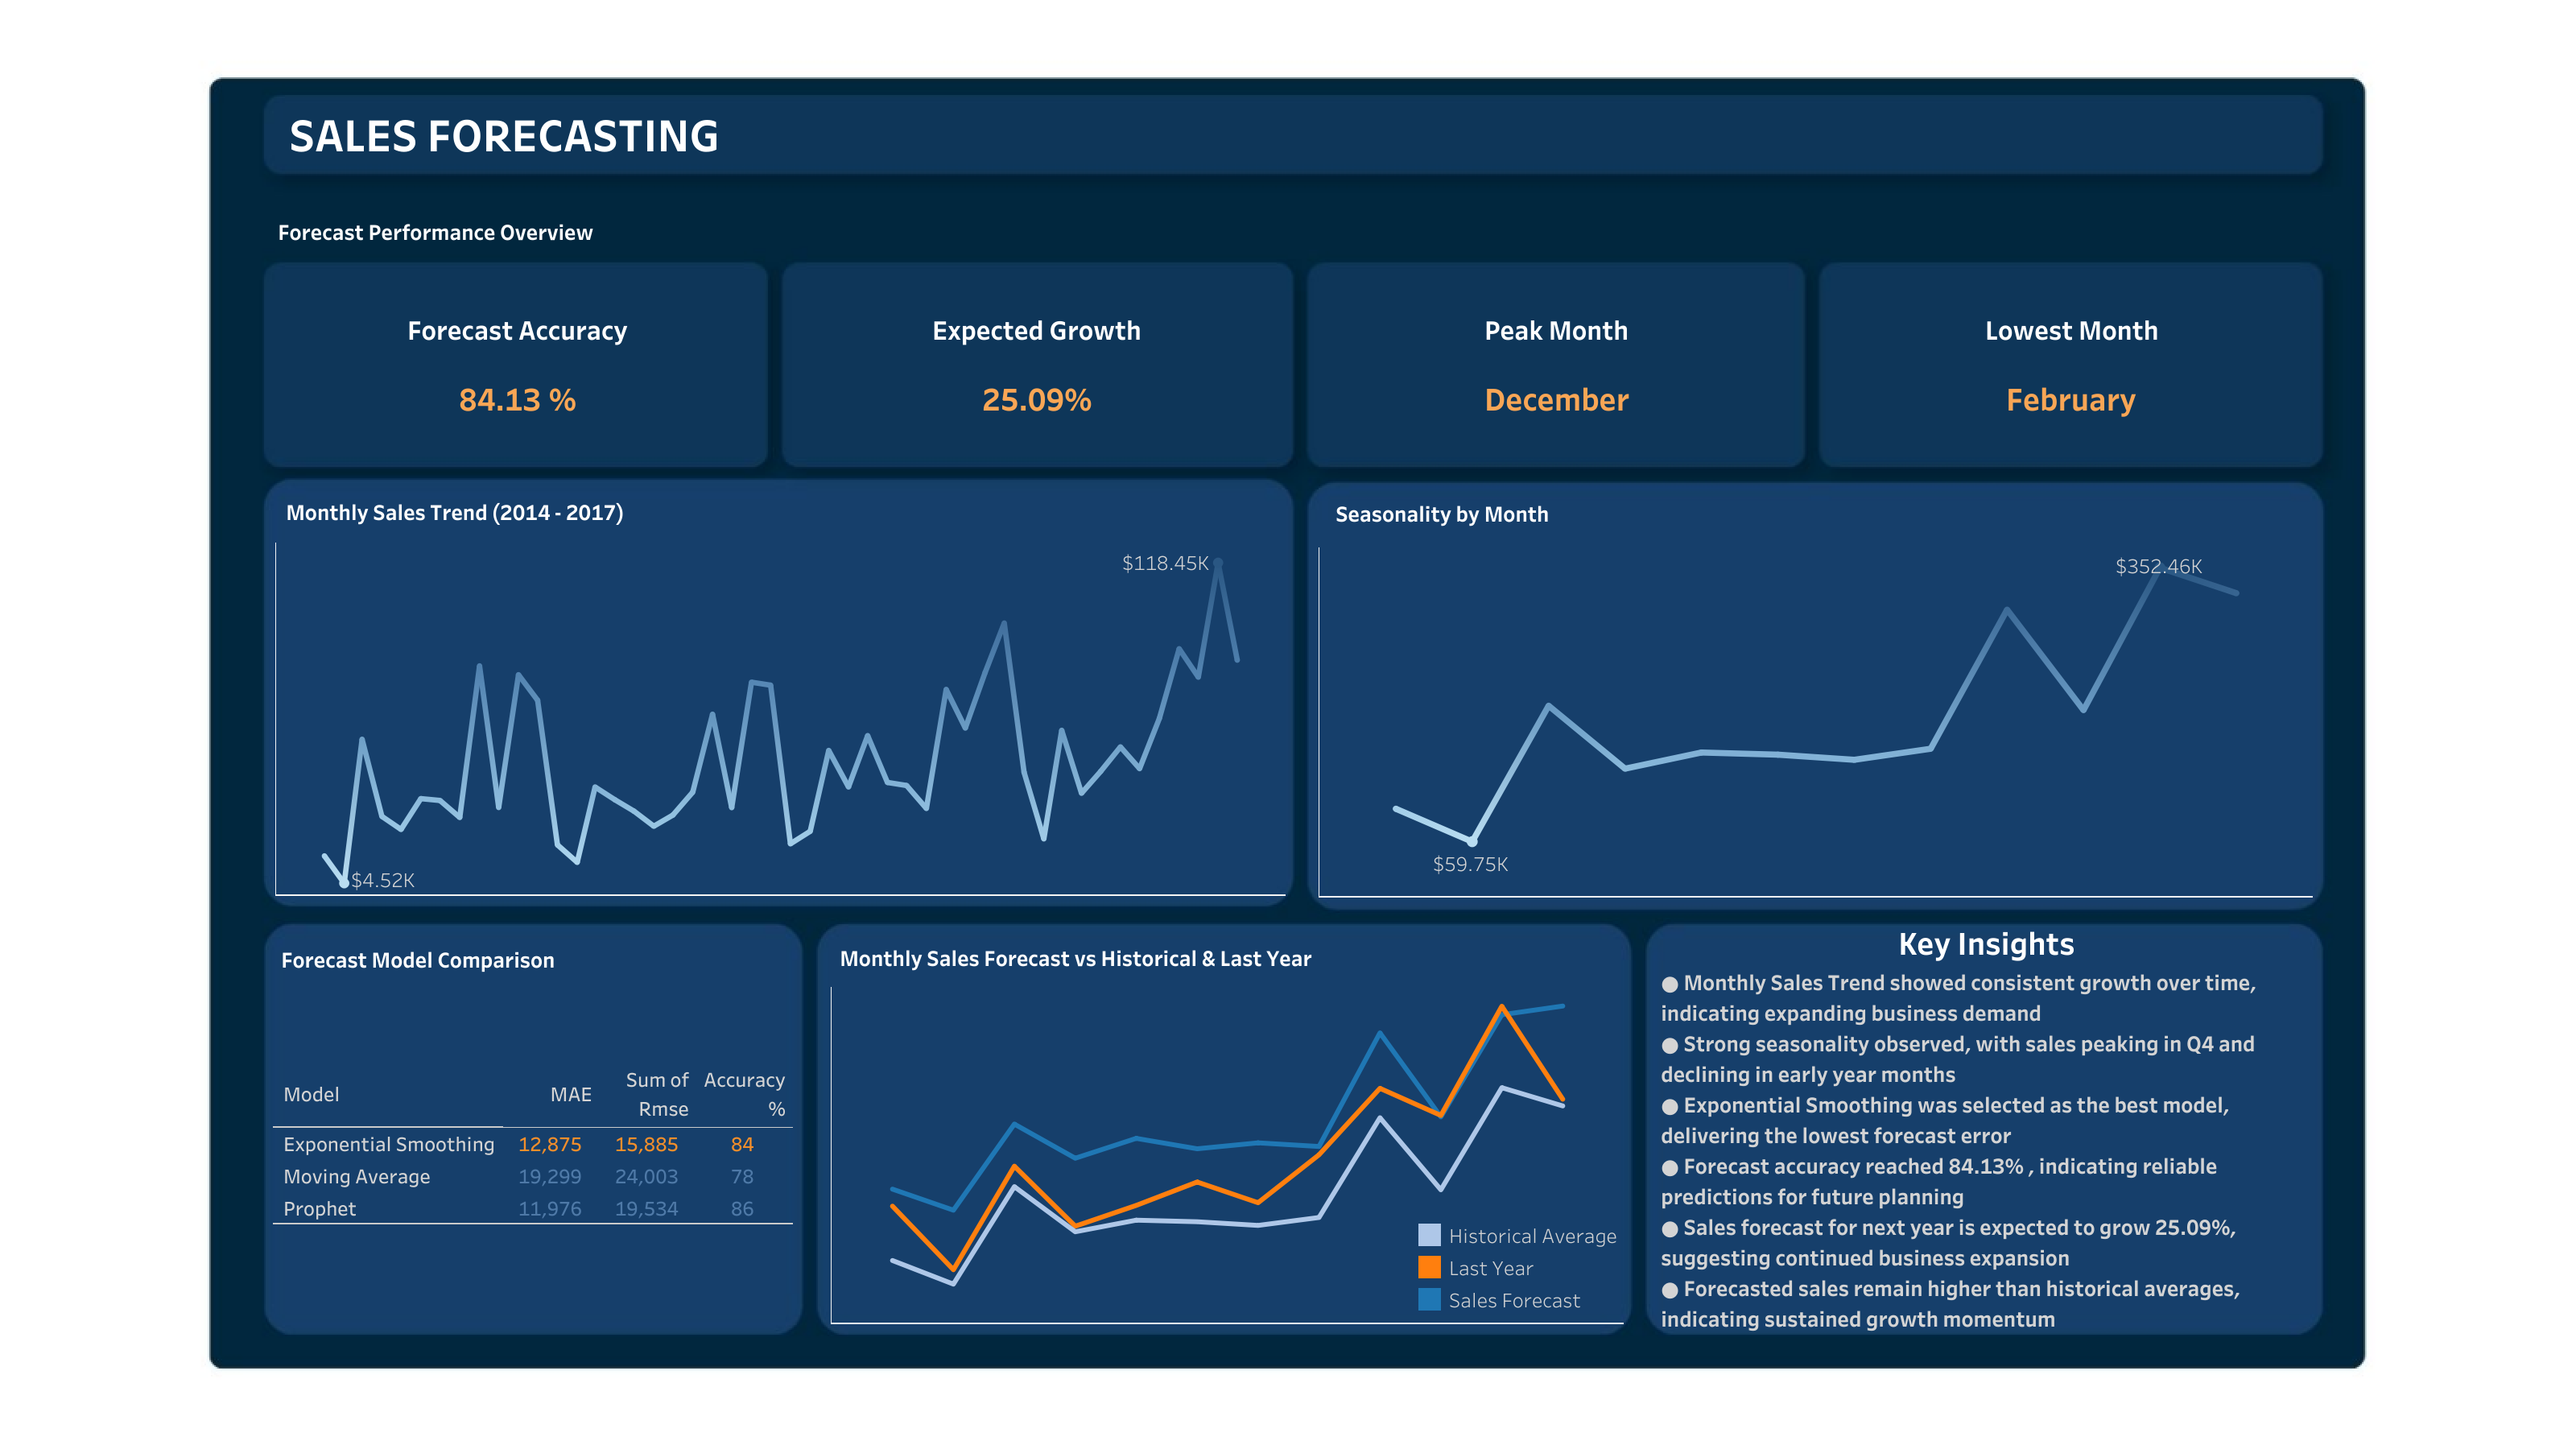

The dashboard page shown, as its layout file describes it:
{"tool":"tableau","page":{"name":"Forecast","canvas":[1600,900],"ordinal":2},"visuals":[{"type":"image","param":"Image/White and Green Modern Clean Financial Performance Dashboard Whiteboard (7","box":[8,8,1584,884]},{"type":"text","box":[177,60,440,45]},{"type":"text","box":[170,128,202,30]},{"type":"worksheet","title":"Expected Growth","mark":"Automatic","box":[488,165,313,123]},{"type":"worksheet","title":"Peak Month KPI","mark":"Automatic","box":[815,165,305,123]},{"type":"worksheet","title":"Lowest Month KPI","mark":"Automatic","box":[1133,165,309,123]},{"type":"worksheet","title":"Forecast Accuracy KPI","mark":"Automatic","box":[168,166,308,121]},{"type":"text","box":[175,302,289,30]},{"type":"text","box":[827,303,138,30]},{"type":"worksheet","title":"Monthly Sales Trend","mark":"Automatic","rows":["Sales"],"cols":["YearMonth"],"box":[167,333,635,227]},{"type":"worksheet","title":"Seasonality","mark":"Automatic","rows":["Sales"],"cols":["Month"],"box":[815,336,625,225]},{"type":"text","box":[1032,570,404,30]},{"type":"text","box":[519,579,299,30]},{"type":"text","box":[172,580,229,30]},{"type":"text","box":[1029,600,413,228]},{"type":"worksheet","title":"Sales Forecast","mark":"Automatic","cols":["Month_Num"],"box":[512,609,500,217]},{"type":"worksheet","title":"Model Comparison","mark":"Automatic","rows":["Model"],"box":[166,654,332,111]},{"type":"legend","title":"Sales Forecast","param":"[federated.1isaj461eaxo4h1bwvgul06t32fy].[:Measure Names]","box":[878,757,139,64]}]}

Visuals, with their boxes in screenshot pixels (x1, y1, x2, y2), scaled from the page's 1600x900 canvas onto the 2576x1449 screenshot:
image: {"x1": 13, "y1": 13, "x2": 2563, "y2": 1436}
text: {"x1": 285, "y1": 97, "x2": 993, "y2": 169}
text: {"x1": 274, "y1": 206, "x2": 599, "y2": 254}
"Expected Growth" worksheet: {"x1": 786, "y1": 266, "x2": 1290, "y2": 464}
"Peak Month KPI" worksheet: {"x1": 1312, "y1": 266, "x2": 1803, "y2": 464}
"Lowest Month KPI" worksheet: {"x1": 1824, "y1": 266, "x2": 2322, "y2": 464}
"Forecast Accuracy KPI" worksheet: {"x1": 270, "y1": 267, "x2": 766, "y2": 462}
text: {"x1": 282, "y1": 486, "x2": 747, "y2": 535}
text: {"x1": 1331, "y1": 488, "x2": 1554, "y2": 536}
"Monthly Sales Trend" worksheet: {"x1": 269, "y1": 536, "x2": 1291, "y2": 902}
"Seasonality" worksheet: {"x1": 1312, "y1": 541, "x2": 2318, "y2": 903}
text: {"x1": 1662, "y1": 918, "x2": 2312, "y2": 966}
text: {"x1": 836, "y1": 932, "x2": 1317, "y2": 980}
text: {"x1": 277, "y1": 934, "x2": 646, "y2": 982}
text: {"x1": 1657, "y1": 966, "x2": 2322, "y2": 1333}
"Sales Forecast" worksheet: {"x1": 824, "y1": 980, "x2": 1629, "y2": 1330}
"Model Comparison" worksheet: {"x1": 267, "y1": 1053, "x2": 802, "y2": 1232}
"Sales Forecast" legend: {"x1": 1414, "y1": 1219, "x2": 1637, "y2": 1322}
